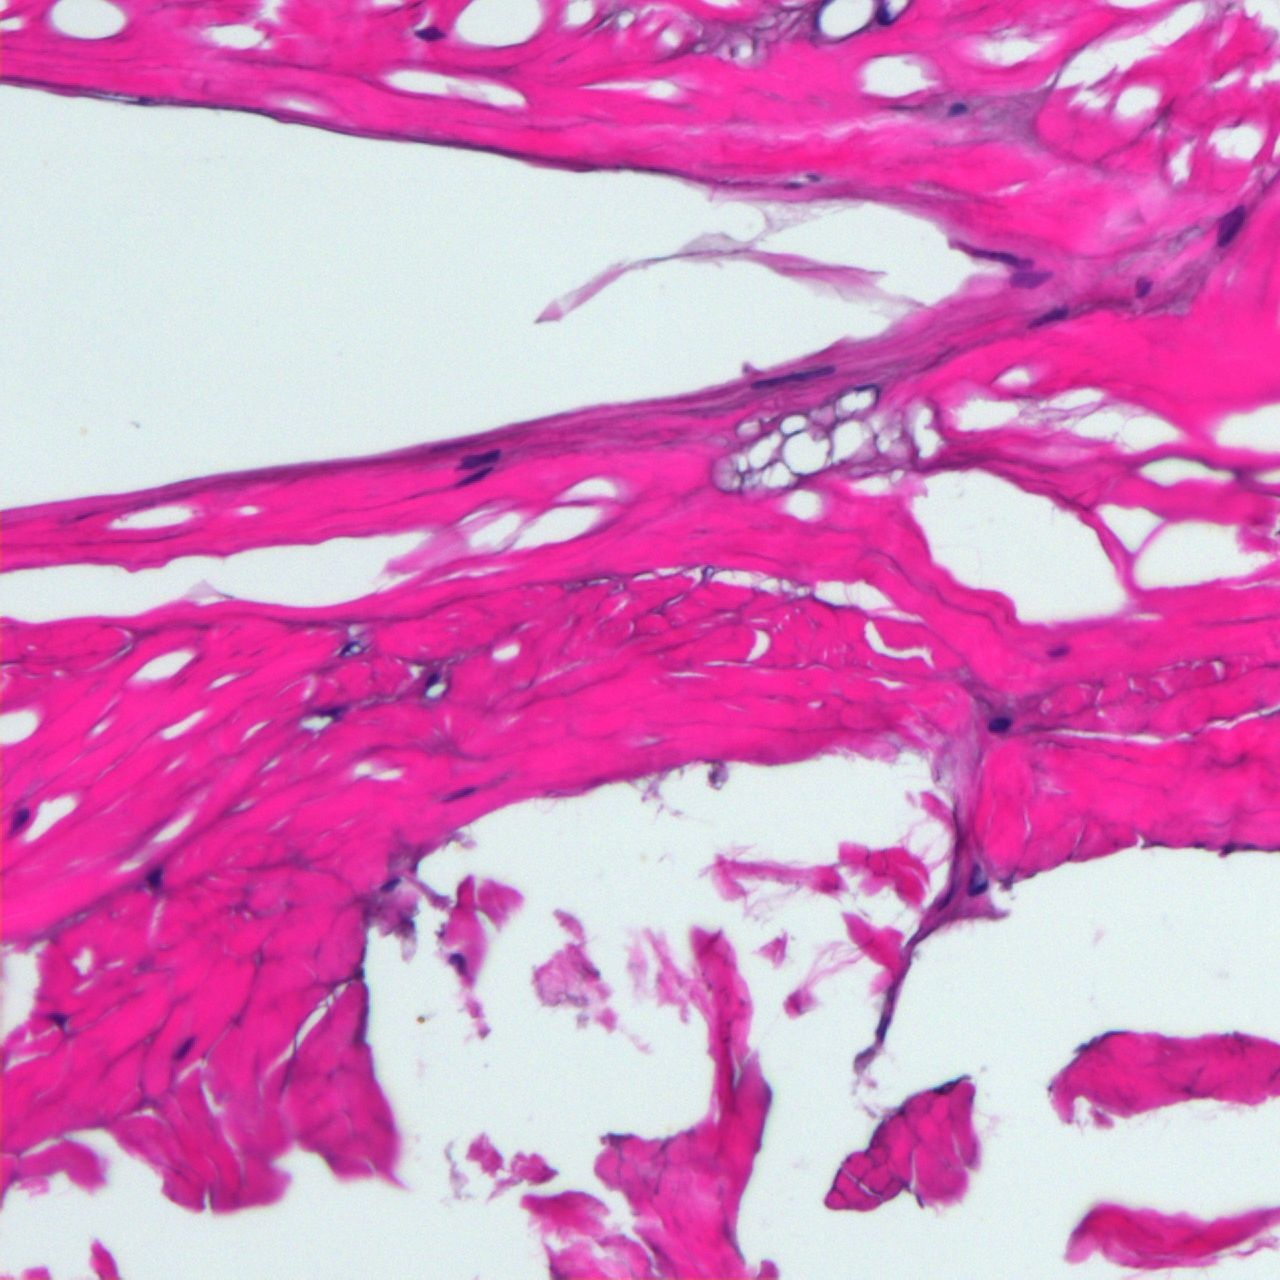nucleus-HE: (1205, 196, 1253, 251), (745, 365, 837, 390), (1022, 297, 1076, 338), (455, 444, 502, 474), (166, 1029, 204, 1065), (930, 1070, 976, 1098), (451, 464, 493, 493), (442, 777, 482, 806), (42, 1002, 73, 1033), (966, 864, 990, 896), (376, 870, 404, 896), (411, 23, 447, 42), (418, 667, 444, 692), (872, 1012, 892, 1042), (11, 806, 30, 832), (448, 951, 467, 978), (937, 887, 956, 912), (144, 865, 163, 891), (1133, 274, 1153, 298), (988, 715, 1012, 734), (874, 1, 891, 26), (1046, 644, 1068, 659), (948, 101, 965, 120), (911, 1189, 925, 1208), (1185, 839, 1208, 849), (1223, 839, 1235, 855), (811, 12, 821, 30)
